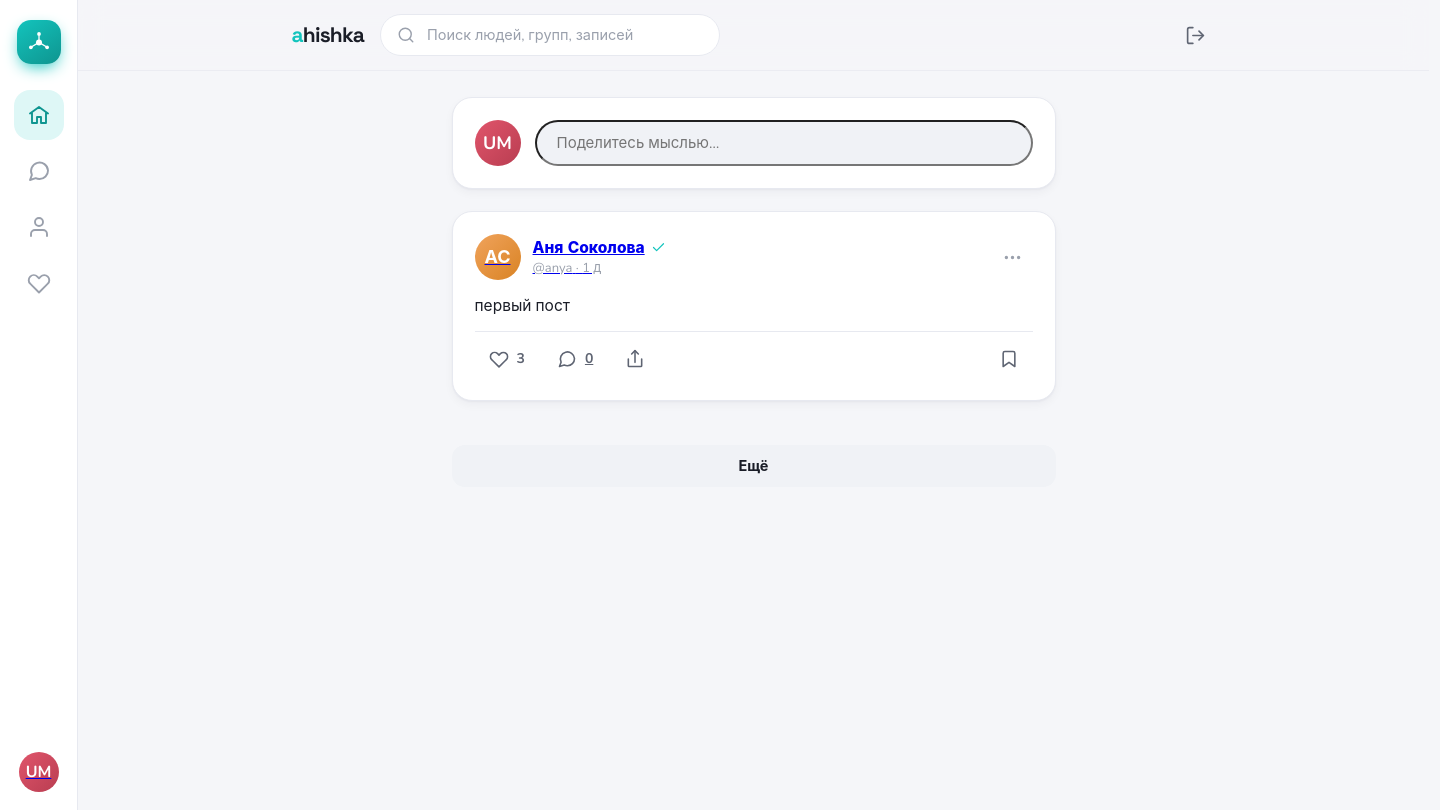
Test: вторая страница запрашивается с курсором первой
Expected: the text "первый пост" is shown, [474, 295, 570, 316]
Click the button "Ещё": (754, 466) [452, 445, 1056, 487]
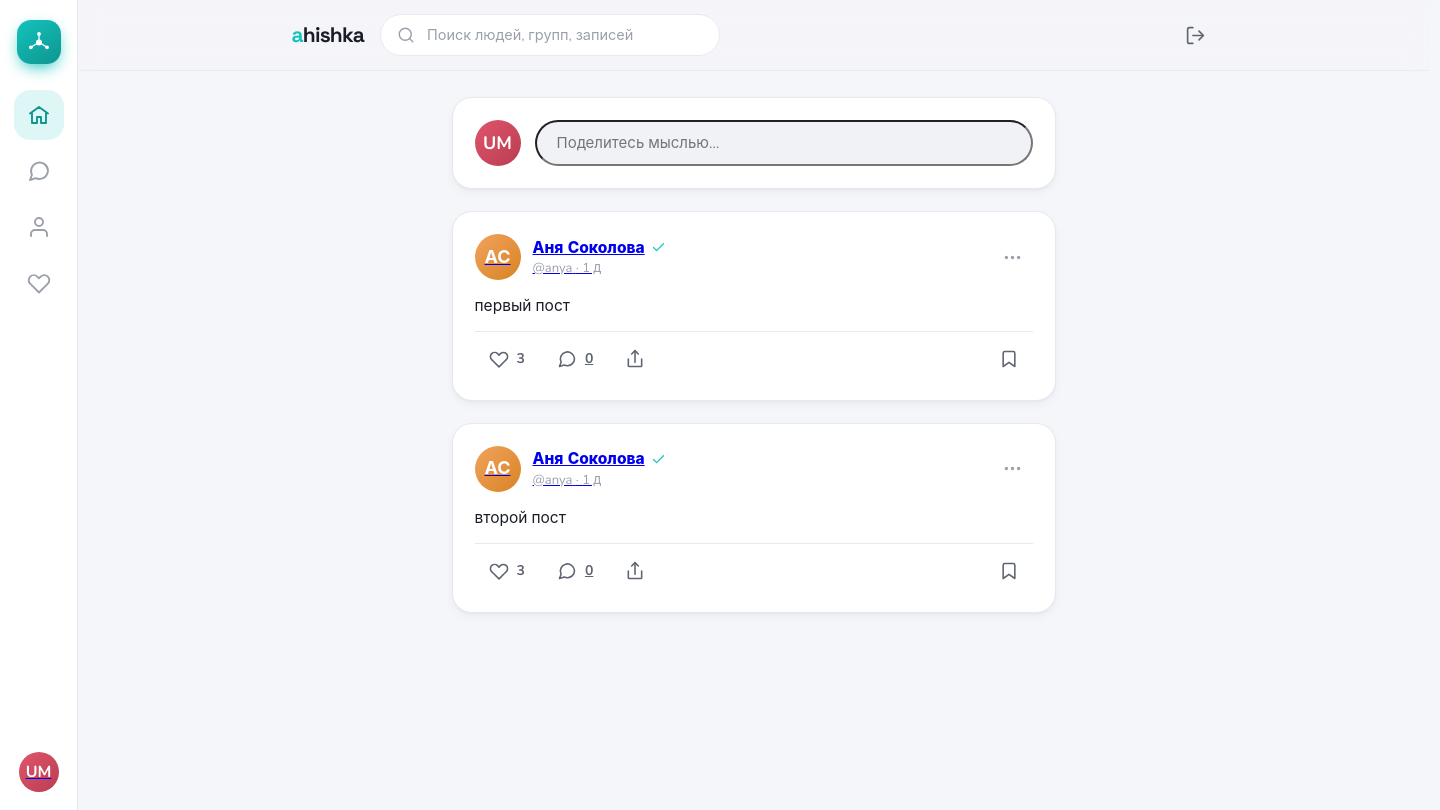
Result: the text "второй пост" is shown at [474, 507, 566, 528]
